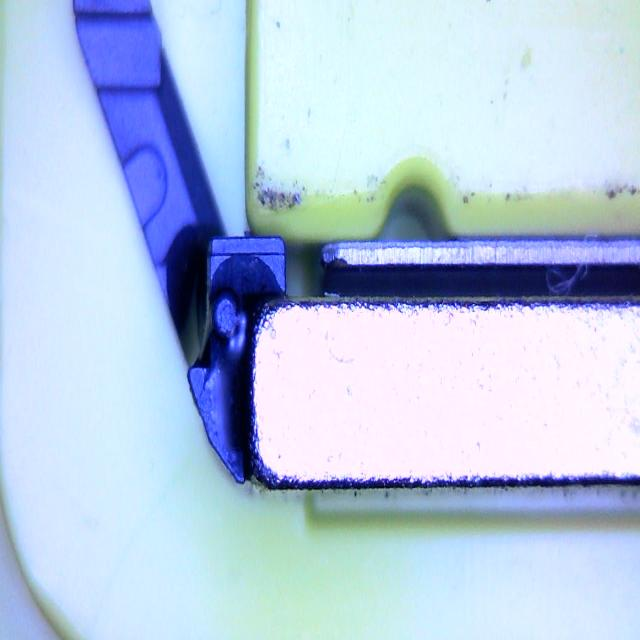over: (210, 316, 250, 477)
